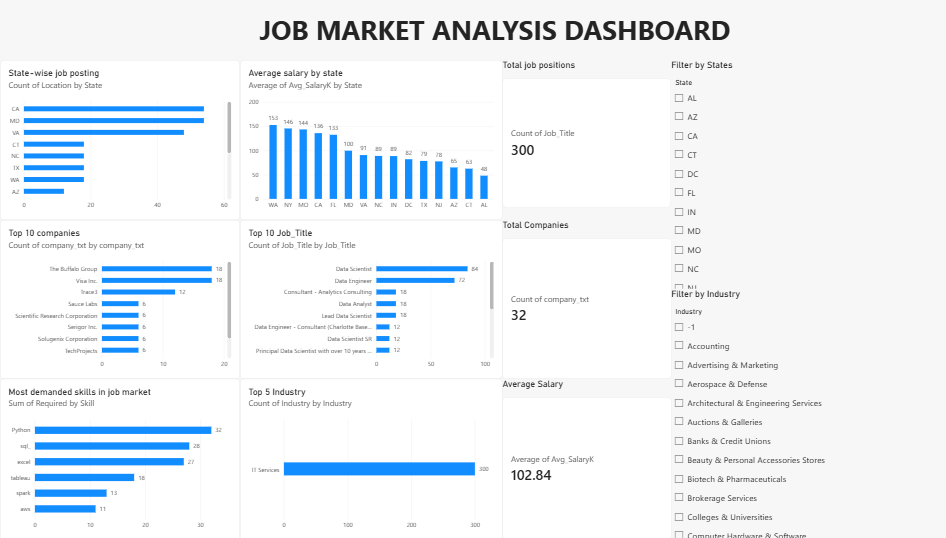

What the dashboard file says about the page in this screenshot:
{"tool":"powerbi","page":{"name":"Page 1","canvas":[1920,1080],"ordinal":0},"visuals":[{"type":"clusteredBarChart","title":"State-wise job posting ","fields":{"Category":["job_market_analysis_cleaned.State"],"Y":["CountNonNull(job_market_analysis_cleaned.Location)"]},"box":[0,120,480,320],"z":0},{"type":"clusteredColumnChart","title":"Average salary by state","fields":{"Category":["job_market_analysis_cleaned.State"],"Y":["Avg(job_market_analysis_cleaned.Avg_SalaryK)"]},"box":[480,120,525,320],"z":1000},{"type":"clusteredBarChart","title":"Top 10 companies","fields":{"Category":["job_market_analysis_cleaned.company_txt"],"Y":["CountNonNull(job_market_analysis_cleaned.company_txt)"]},"box":[0,440,480,317.5],"z":2000},{"type":"clusteredBarChart","title":"Top 10 Job_Title","fields":{"Category":["job_market_analysis_cleaned.Job_Title"],"Y":["CountNonNull(job_market_analysis_cleaned.Job_Title)"]},"box":[480,440,525,317.5],"z":3000},{"type":"clusteredBarChart","title":"Most demanded skills in job market","fields":{"Category":["job_market_analysis_cleaned.Skill"],"Y":["Sum(job_market_analysis_cleaned.Required)"]},"box":[0,757.5,480,322.5],"z":4000},{"type":"clusteredBarChart","title":"Top 5 Industry","fields":{"Category":["job_market_analysis_cleaned.Industry"],"Y":["CountNonNull(job_market_analysis_cleaned.Industry)"]},"box":[480,757.5,525,322.5],"z":5000},{"type":"textbox","box":[1678,90,242,310],"z":6000},{"type":"textbox","box":[280,22.5,1640,120],"z":8000},{"type":"cardVisual","title":"Total job positions","fields":{"Data":["CountNonNull(job_market_analysis_cleaned.Job_Title)"]},"box":[1005,120,337.5,295],"z":8001},{"type":"cardVisual","title":"Total Companies","fields":{"Data":["Count(job_market_analysis_cleaned.company_txt)"]},"box":[1005,440,338,318],"z":8002},{"type":"cardVisual","title":"Average Salary","fields":{"Data":["Avg(job_market_analysis_cleaned.Avg_SalaryK)"]},"box":[1005,758,338,322],"z":8003},{"type":"slicer","title":"Filter by States","fields":{"Values":["job_market_analysis_cleaned.State"]},"box":[1342.5,120,577.5,457.5],"z":8004},{"type":"slicer","title":"Filter by Industry","fields":{"Values":["job_market_analysis_cleaned.Industry"]},"box":[1342.5,577.5,577.5,502.5],"z":8005}]}

Visuals, with their boxes in screenshot pixels (x1, y1, x2, y2), scaled from the page's 1920x1080 canvas onto the 946x538 screenshot:
"State-wise job posting " clusteredBarChart: pyautogui.locateOnScreen(0, 60, 236, 219)
"Average salary by state" clusteredColumnChart: pyautogui.locateOnScreen(236, 60, 495, 219)
"Top 10 companies" clusteredBarChart: pyautogui.locateOnScreen(0, 219, 236, 377)
"Top 10 Job_Title" clusteredBarChart: pyautogui.locateOnScreen(236, 219, 495, 377)
"Most demanded skills in job market" clusteredBarChart: pyautogui.locateOnScreen(0, 377, 236, 537)
"Top 5 Industry" clusteredBarChart: pyautogui.locateOnScreen(236, 377, 495, 537)
textbox: pyautogui.locateOnScreen(827, 45, 945, 199)
textbox: pyautogui.locateOnScreen(138, 11, 945, 71)
"Total job positions" cardVisual: pyautogui.locateOnScreen(495, 60, 661, 207)
"Total Companies" cardVisual: pyautogui.locateOnScreen(495, 219, 662, 378)
"Average Salary" cardVisual: pyautogui.locateOnScreen(495, 378, 662, 537)
"Filter by States" slicer: pyautogui.locateOnScreen(661, 60, 945, 288)
"Filter by Industry" slicer: pyautogui.locateOnScreen(661, 288, 945, 537)
